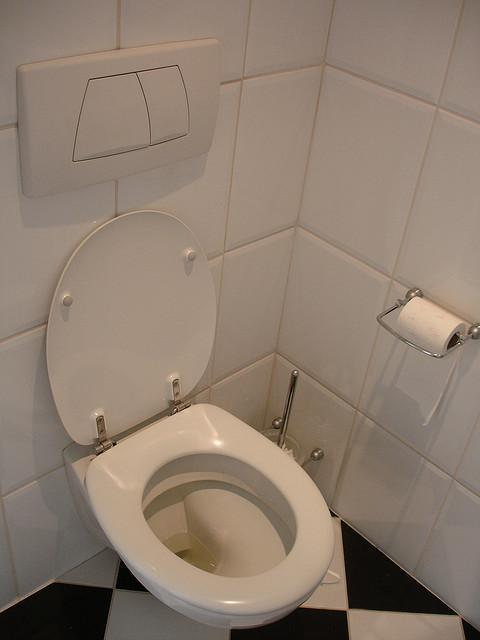Sanitario: (42, 213, 341, 627)
